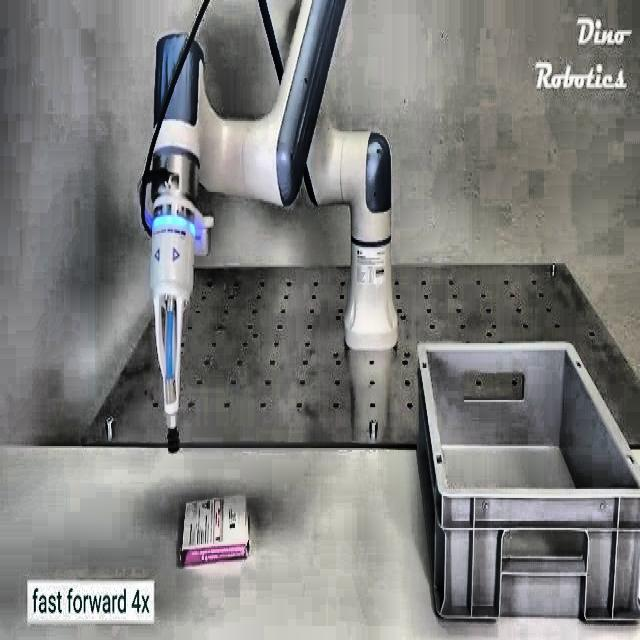robot: (138, 0, 399, 452)
